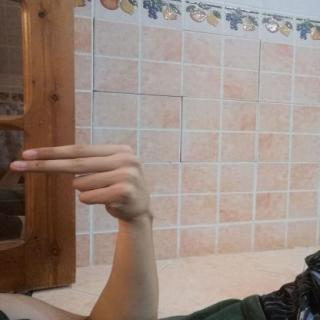AYN: (4, 138, 158, 230)
